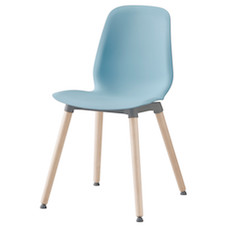chair: (39, 5, 189, 220)
